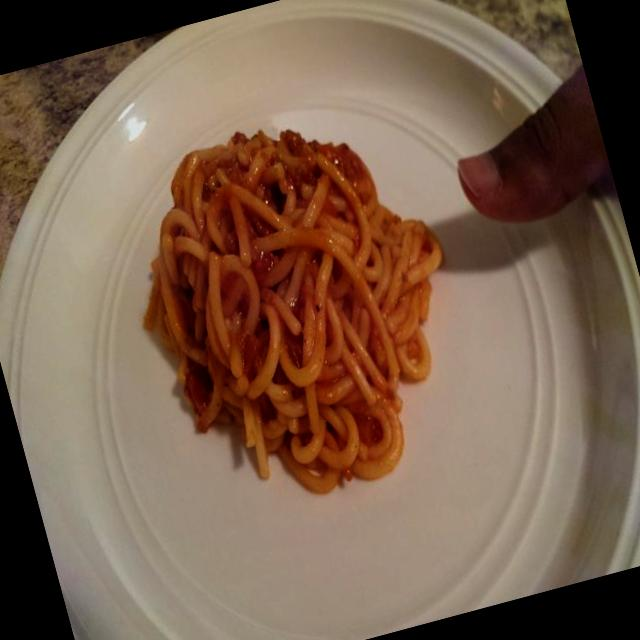Pasta: (66, 75, 498, 548)
